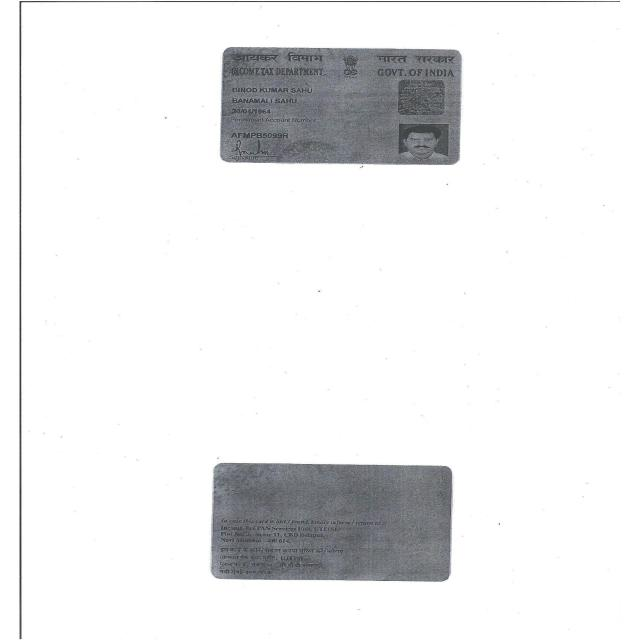pan_card: (210, 464, 451, 585), (218, 48, 458, 166)
